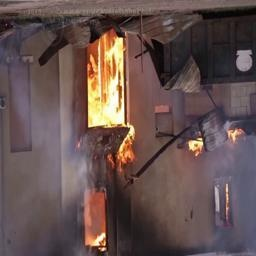fire: (86, 42, 131, 129), (81, 188, 113, 256)
